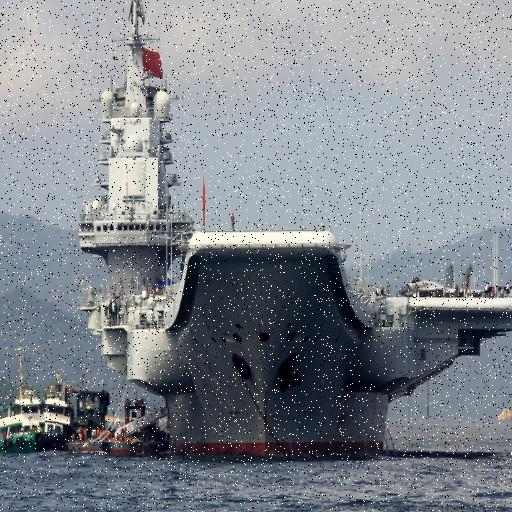Portanaves: (81, 1, 512, 462)
